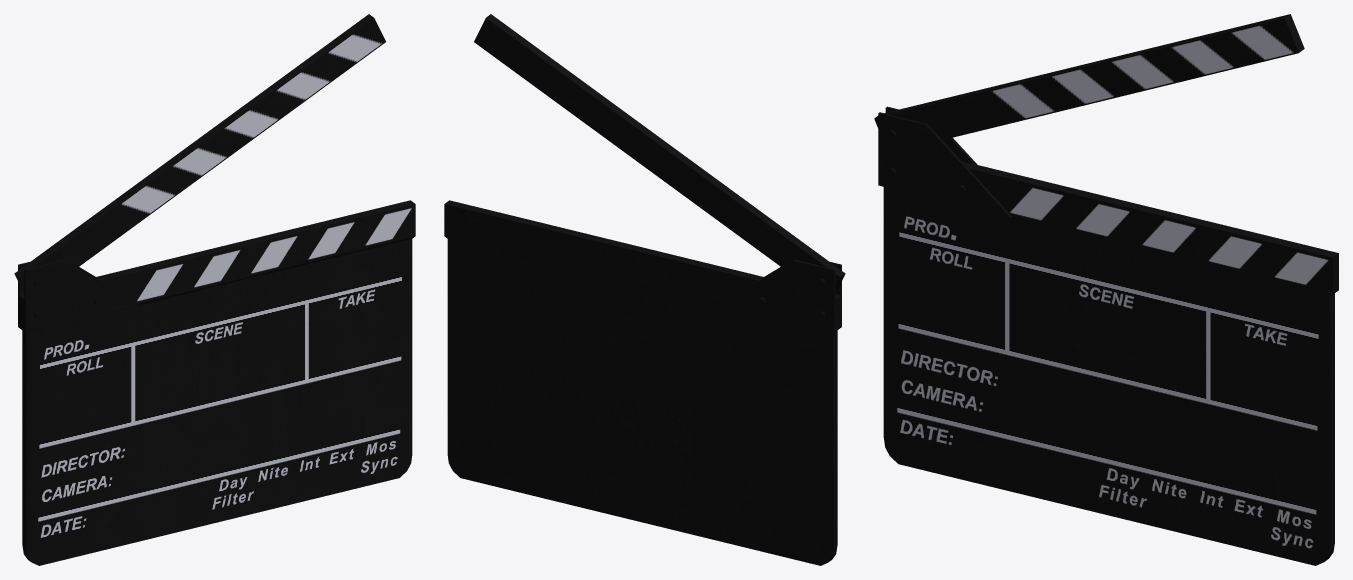
The model's file is clapperboard.glb.
The picture shows the model from 3 angles, left to right: view 1: azimuth 30°, elevation 25°; view 2: azimuth 150°, elevation 25°; view 3: azimuth 330°, elevation 25°; orthographic projection. The views are drawn at different scales.
Visible parts, largest first — view 1: Clapperboard_Clapperboard_0, ClapperboardFlap; view 2: Clapperboard_Clapperboard_0, ClapperboardFlap; view 3: Clapperboard_Clapperboard_0, ClapperboardFlap.
Boxes of the visible parts, left/top/right/bottom form: Clapperboard_Clapperboard_0: left=18, top=200, right=415, bottom=565; ClapperboardFlap: left=14, top=14, right=385, bottom=291; Clapperboard_Clapperboard_0: left=444, top=200, right=841, bottom=565; ClapperboardFlap: left=474, top=14, right=845, bottom=291; Clapperboard_Clapperboard_0: left=878, top=106, right=1338, bottom=565; ClapperboardFlap: left=874, top=14, right=1304, bottom=139.
Size of the model in its own units: 0.355 by 0.3999 by 0.0155.
Materials: 2 (2 with a texture image).
